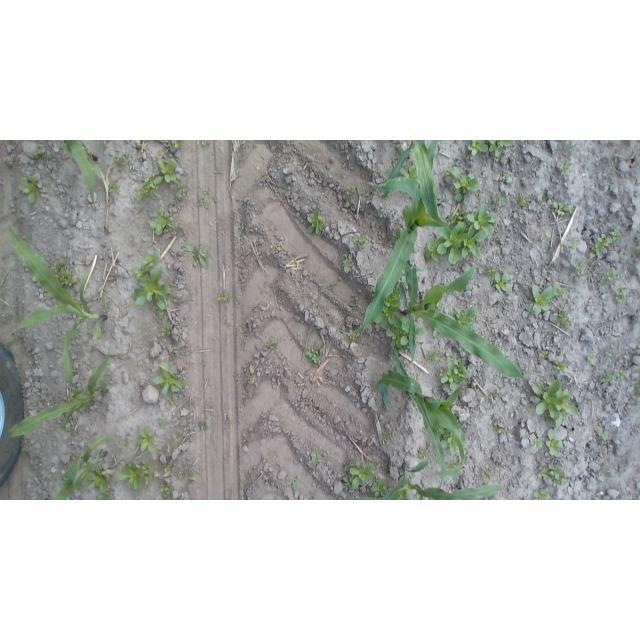Maize: (340, 141, 438, 336), (6, 226, 106, 384), (398, 261, 530, 379), (376, 354, 465, 490), (8, 355, 109, 437), (355, 460, 502, 500), (383, 140, 449, 226), (53, 432, 116, 500), (60, 140, 100, 205)
Weeds: (424, 203, 497, 265), (530, 379, 578, 427), (132, 265, 171, 309), (370, 283, 406, 329), (386, 315, 426, 356), (446, 166, 482, 202), (154, 362, 187, 394), (434, 425, 467, 456), (440, 357, 469, 391), (527, 284, 557, 315), (345, 461, 376, 489), (117, 461, 145, 492), (136, 173, 165, 202), (447, 306, 478, 333), (21, 176, 48, 205), (468, 140, 516, 156), (182, 243, 210, 270), (86, 465, 111, 494), (52, 260, 77, 288), (149, 209, 174, 235), (138, 427, 157, 454), (592, 234, 613, 258), (158, 159, 178, 184), (307, 207, 324, 235), (545, 428, 561, 457), (111, 151, 131, 174), (548, 464, 567, 487), (401, 163, 420, 185), (491, 272, 510, 293), (552, 307, 570, 328), (143, 251, 159, 271), (305, 346, 323, 363), (371, 479, 387, 498), (552, 201, 573, 215), (573, 261, 589, 279), (142, 460, 152, 485), (614, 285, 627, 304), (353, 234, 368, 249), (161, 484, 174, 500), (518, 193, 531, 208), (341, 255, 351, 274), (554, 360, 567, 374), (494, 192, 507, 206), (425, 351, 443, 361), (533, 489, 549, 500), (602, 271, 618, 282), (444, 460, 461, 470), (161, 324, 174, 337), (609, 228, 622, 241), (155, 307, 169, 319), (484, 263, 495, 278), (531, 438, 544, 450), (100, 486, 111, 500), (164, 141, 186, 148), (392, 230, 402, 245), (561, 161, 571, 176), (492, 422, 504, 434), (199, 196, 210, 209), (109, 180, 119, 194), (177, 182, 187, 196), (310, 448, 318, 465), (350, 294, 359, 309), (30, 149, 45, 158), (348, 330, 360, 341), (380, 430, 391, 442), (482, 469, 492, 482), (185, 471, 196, 482), (557, 286, 567, 298), (382, 168, 392, 180), (218, 294, 231, 303), (602, 373, 613, 383), (538, 466, 547, 478), (419, 449, 429, 459), (597, 430, 607, 440), (287, 478, 298, 487), (167, 395, 176, 405), (164, 462, 173, 472), (587, 355, 597, 364), (617, 369, 626, 379), (347, 186, 357, 195), (606, 349, 617, 357), (327, 281, 337, 289), (569, 241, 577, 251), (267, 341, 276, 349), (199, 422, 208, 430), (540, 350, 549, 358), (103, 299, 110, 308), (433, 328, 440, 337), (634, 383, 640, 393), (494, 233, 500, 243), (201, 140, 208, 148), (569, 145, 577, 152), (541, 234, 548, 242), (587, 253, 596, 259), (635, 245, 640, 255), (203, 188, 210, 195), (239, 223, 246, 230), (503, 174, 510, 181), (245, 372, 251, 380), (524, 408, 530, 415), (160, 417, 165, 425), (120, 440, 128, 445), (544, 245, 549, 252), (435, 387, 442, 391), (444, 292, 449, 297), (226, 421, 231, 426), (538, 201, 543, 206), (492, 393, 498, 397), (203, 361, 208, 365), (129, 398, 133, 403), (637, 178, 640, 184), (491, 498, 498, 500)
